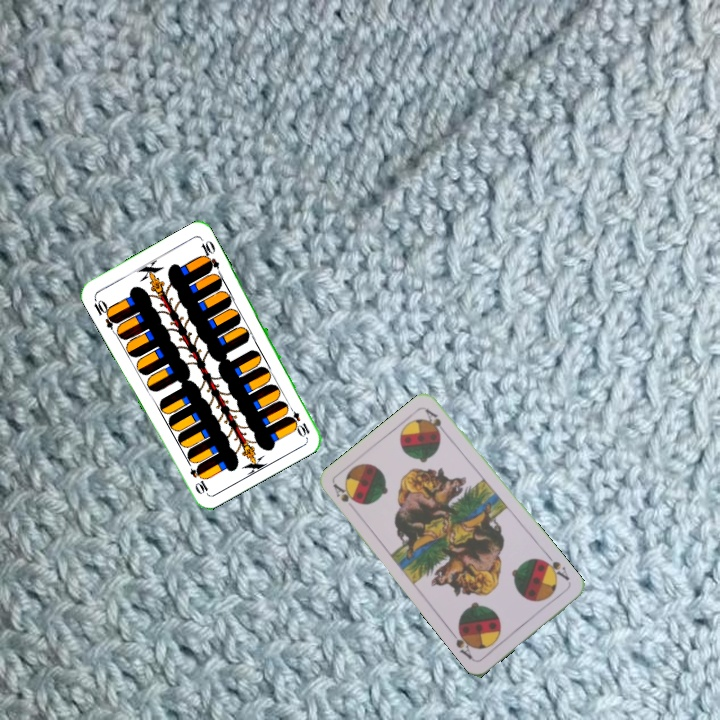E10: (90, 294, 120, 331), (283, 401, 312, 439)
SA: (538, 551, 572, 583), (329, 480, 362, 507)
